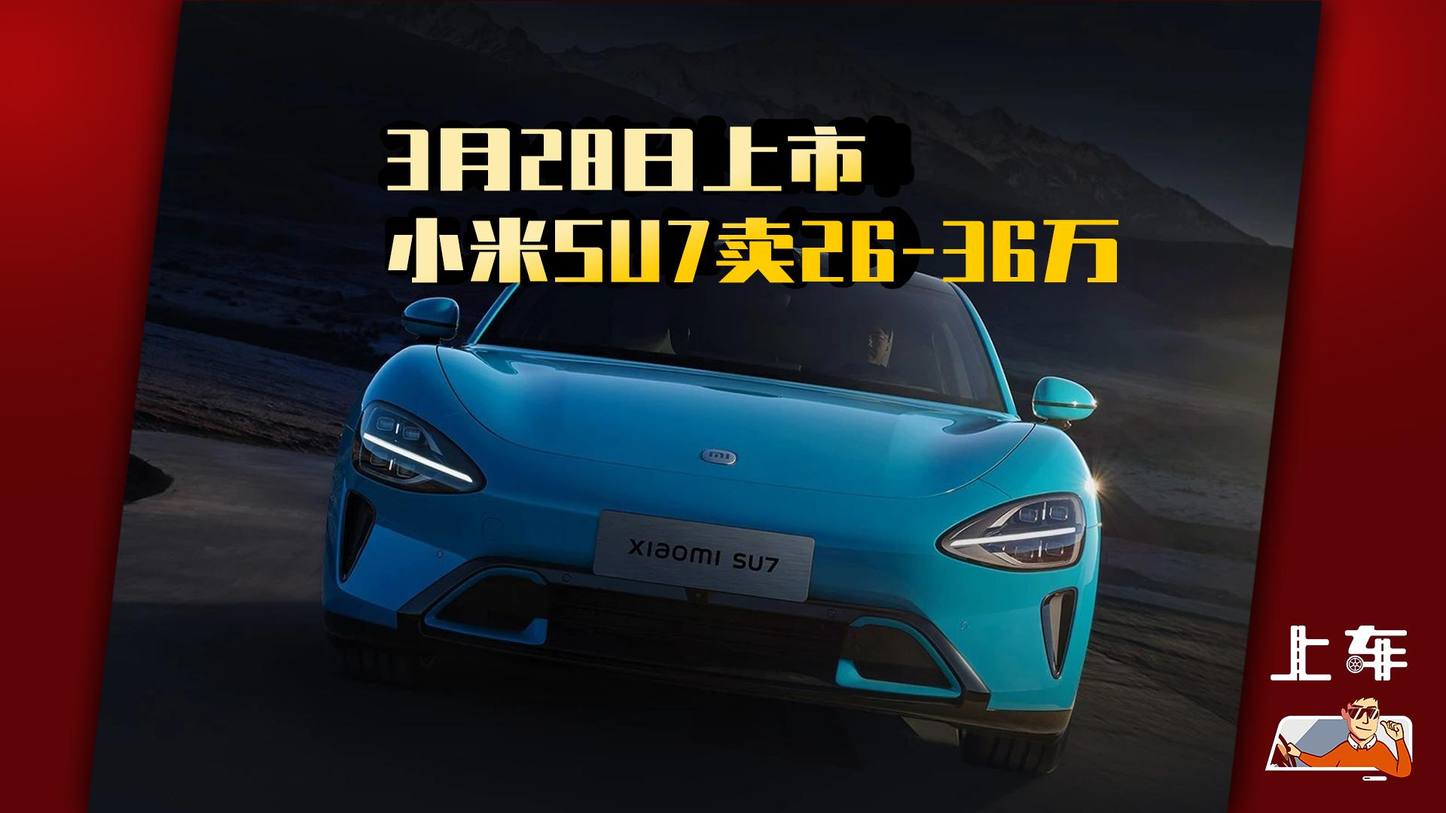su7: (331, 224, 1097, 754)
